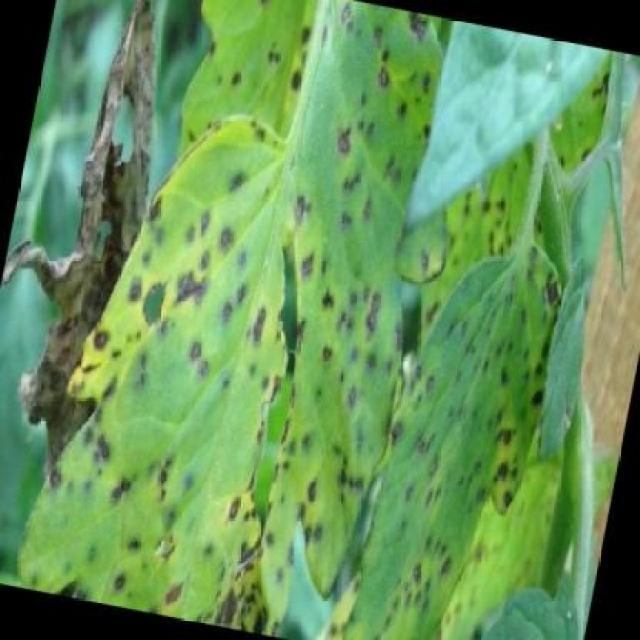Septoria leaf spot: (8, 1, 481, 639), (348, 204, 617, 640)
